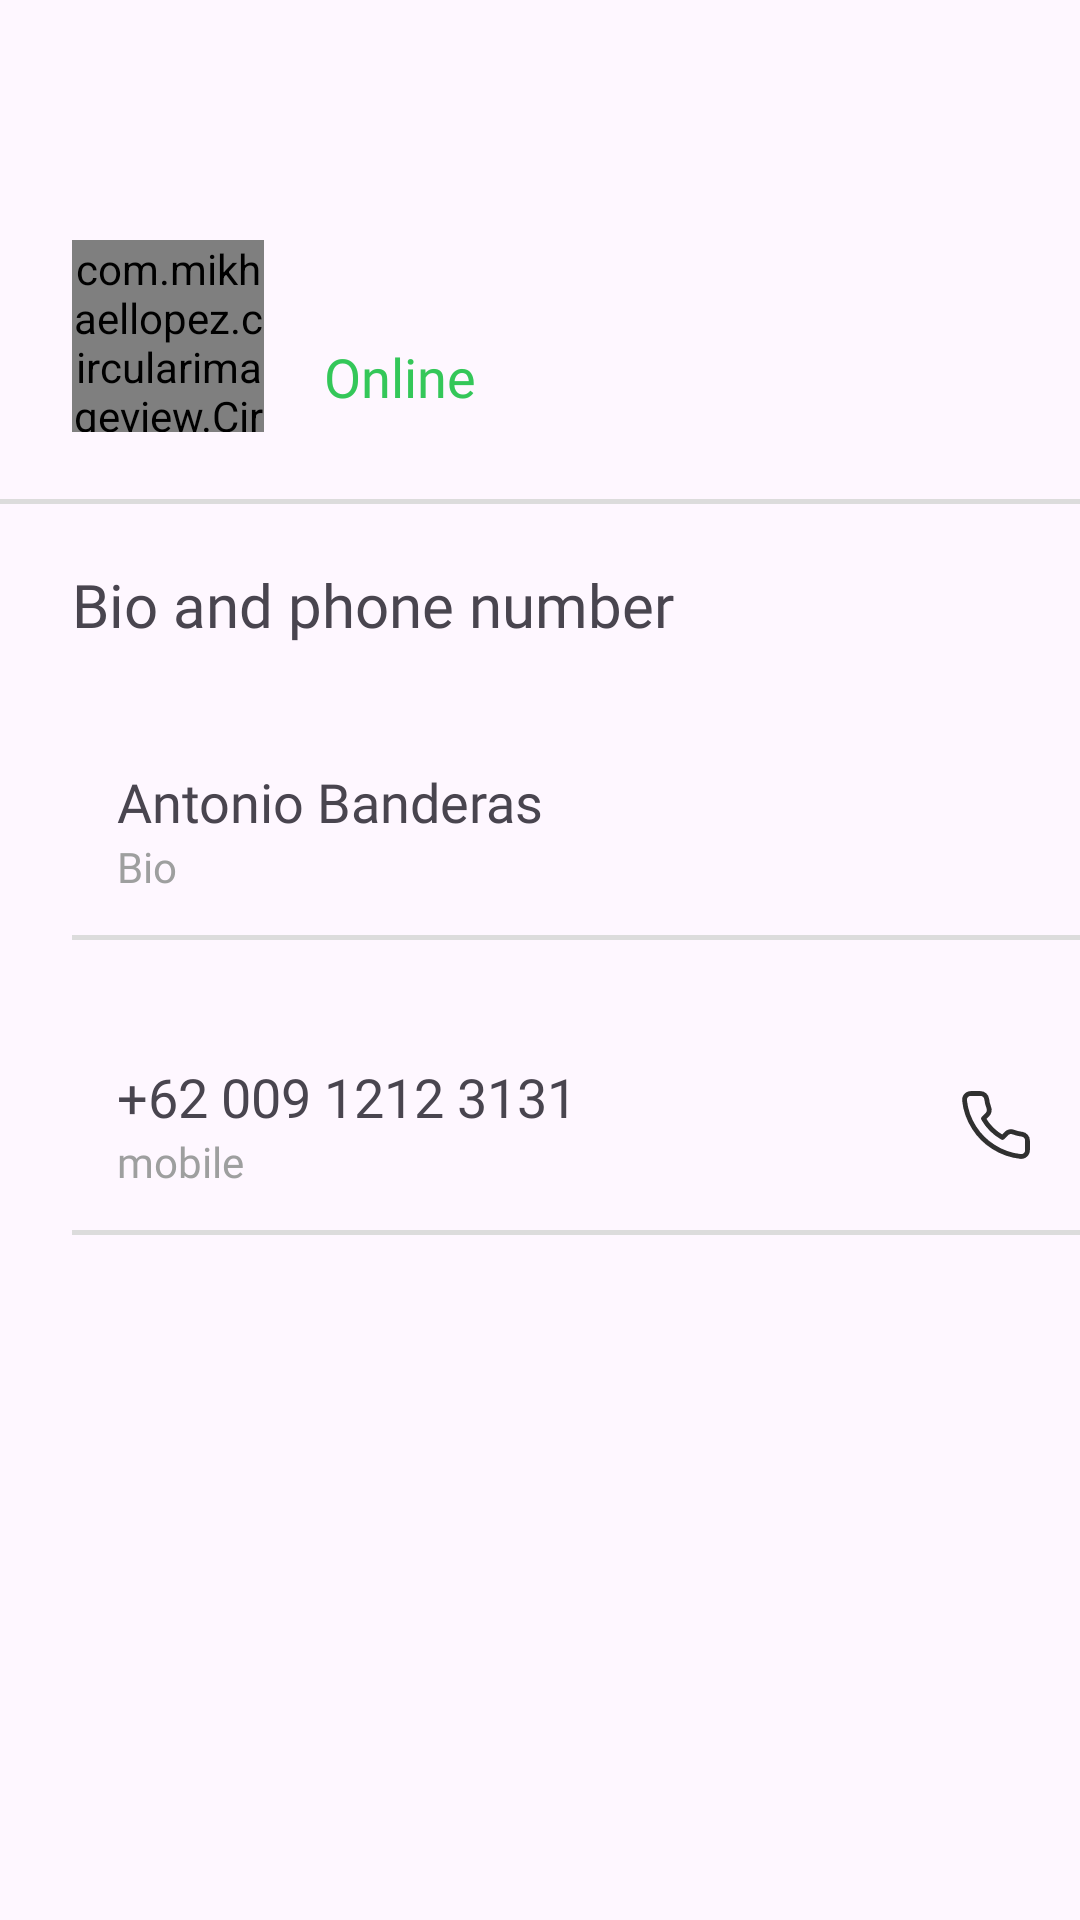

Screen size 1080×1920. Icon name, then its center in pixels as [x,y]:
phone: [996,1125]
